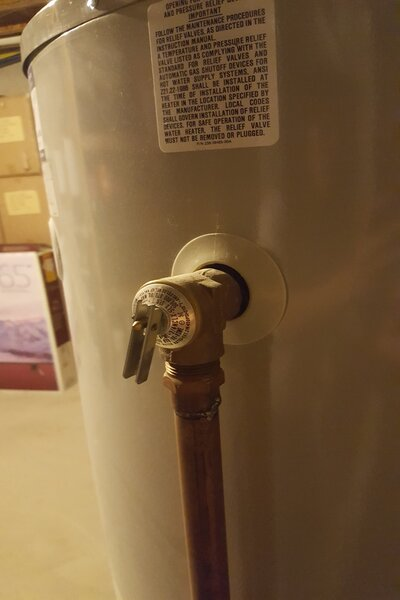valve: (116, 262, 252, 427)
